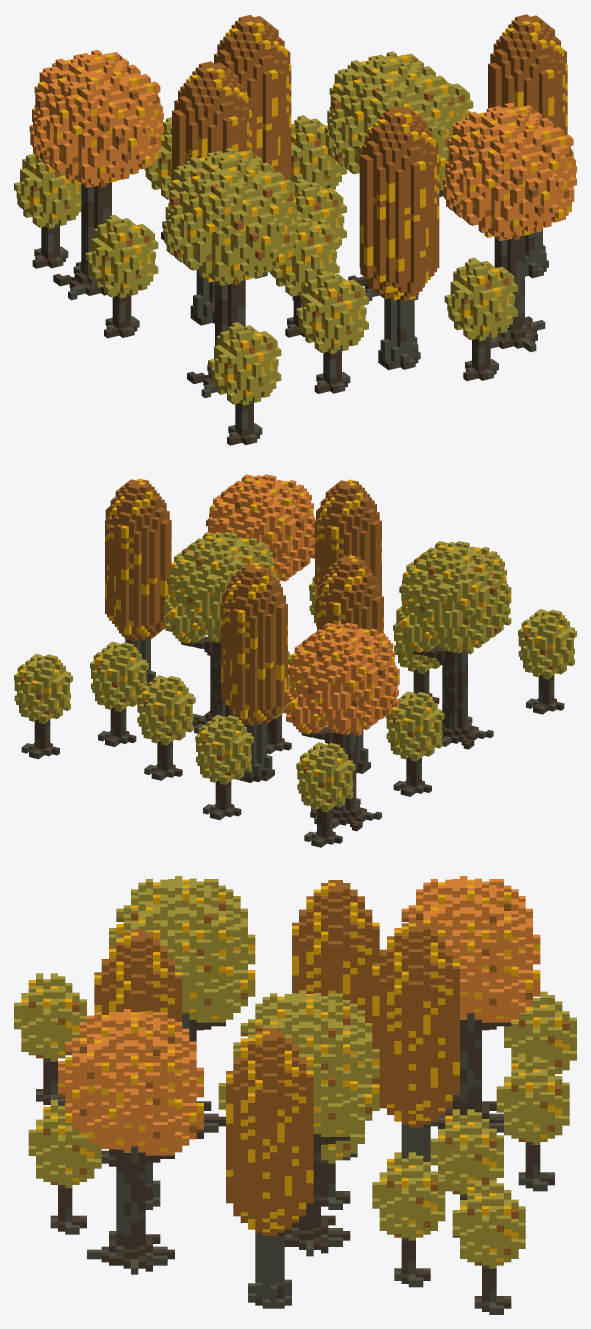
The model's file is trees_9_overtile.obj.
3 views of the same model, one above another, from view 1: azimuth 30°, elevation 25°; view 2: azimuth 150°, elevation 25°; view 3: azimuth 270°, elevation 25° (orthographic). The views are drawn at different scales.
Size of the model in its own units: 7.7 by 4 by 7.7.
Materials: 1 (1 with a texture image).
